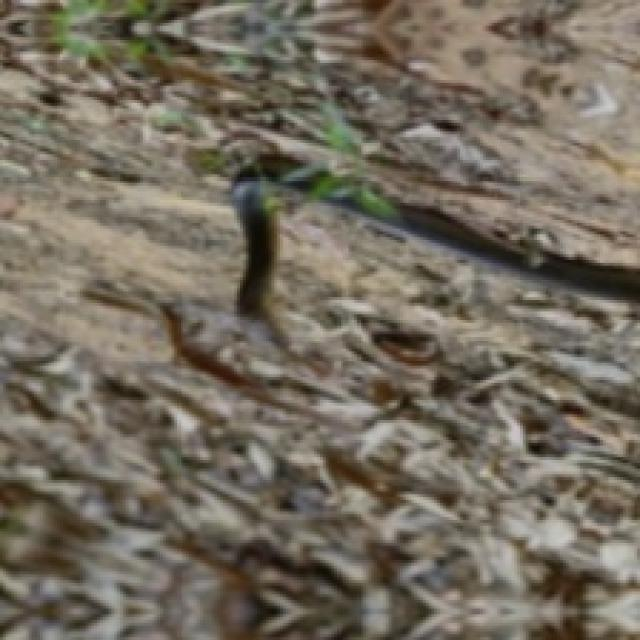king cobra: (325, 181, 640, 298), (231, 145, 358, 319)
